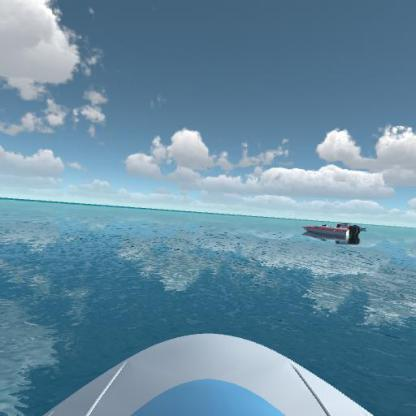usv1: (343, 219, 370, 235)
usv3: (302, 221, 361, 249)
